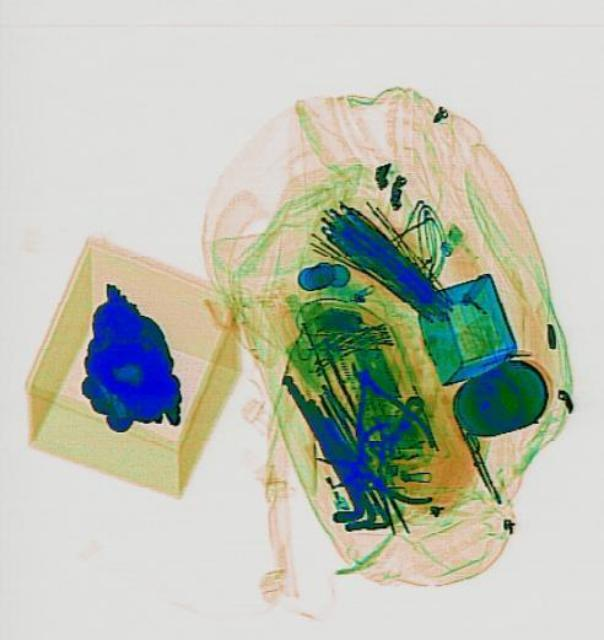Pliers: (318, 344, 435, 474)
